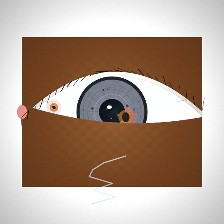foreign_body_visible: (37, 114, 71, 142)
